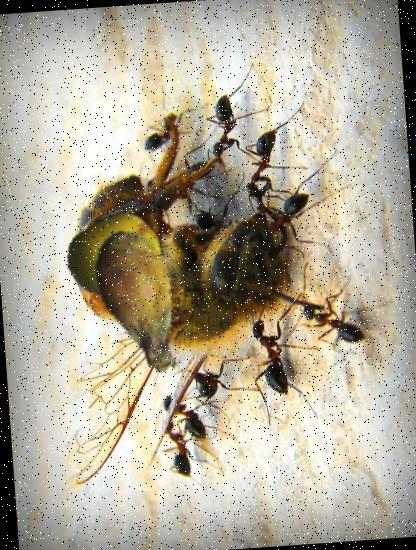Cactus: (61, 222, 220, 381)
Pomelo: (61, 202, 166, 307)
